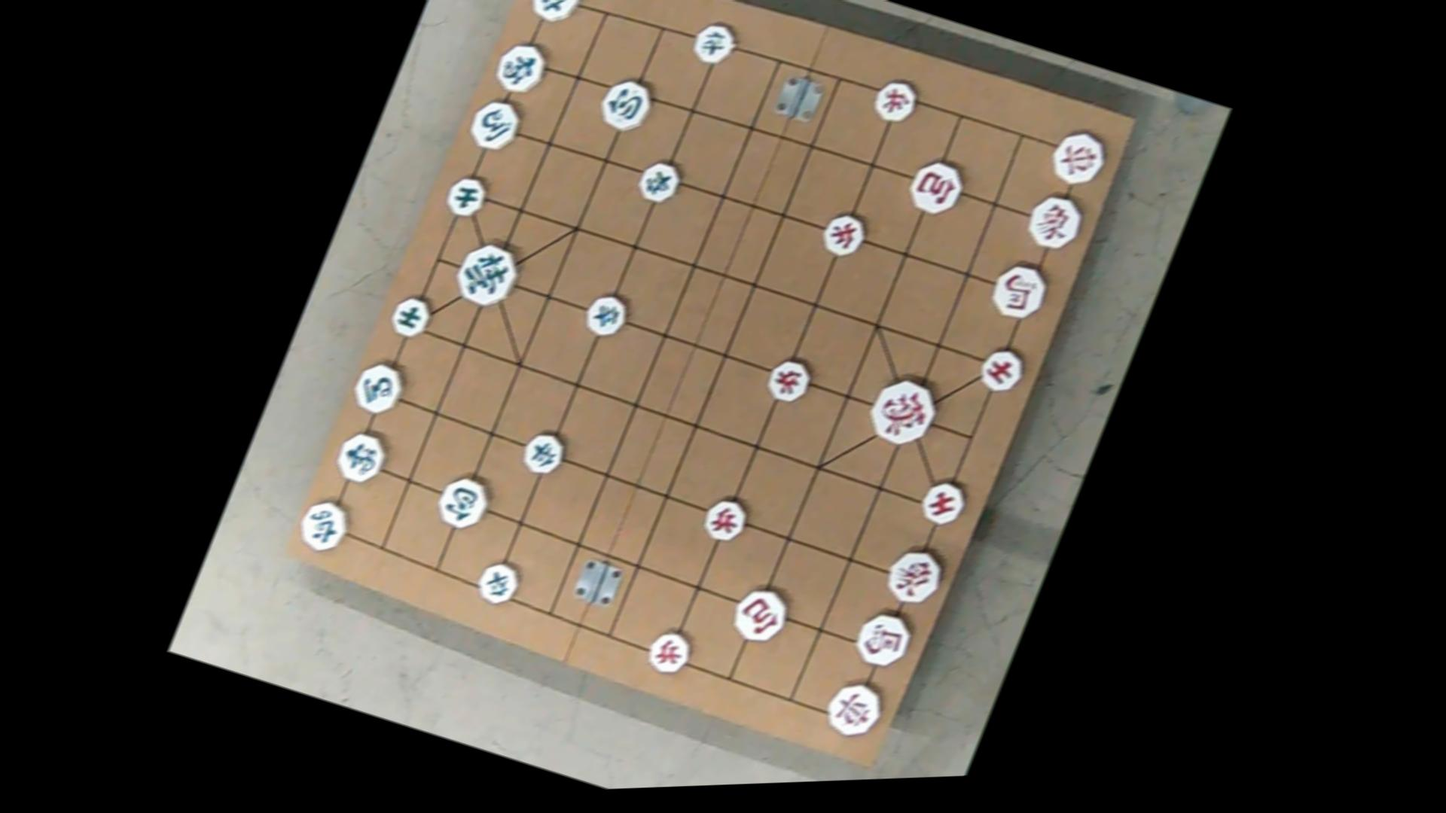cha_green: (294, 492, 354, 557), (522, 0, 585, 29)
cha_red: (819, 674, 889, 746), (1045, 122, 1112, 191)
jol_green: (582, 288, 633, 342), (635, 155, 685, 209), (473, 555, 523, 608), (688, 18, 737, 72), (519, 426, 567, 480)
jol_red: (698, 492, 751, 549), (761, 351, 814, 408), (816, 206, 870, 260), (643, 625, 694, 680), (867, 76, 919, 129)
ma_green: (464, 94, 525, 159), (346, 358, 407, 422)
ma_red: (985, 259, 1054, 327), (850, 604, 917, 673)
po_green: (432, 468, 496, 534), (595, 71, 658, 136)
po_red: (727, 580, 793, 650), (901, 153, 966, 220)
sa_green: (442, 171, 491, 223), (385, 291, 433, 343)
sa_red: (974, 343, 1028, 400), (915, 477, 968, 531)
sang_green: (489, 37, 551, 102), (329, 428, 391, 491)
sang_red: (876, 541, 950, 614), (1020, 188, 1088, 257)
wang_green: (447, 237, 522, 315)
wang_red: (866, 369, 946, 452)
